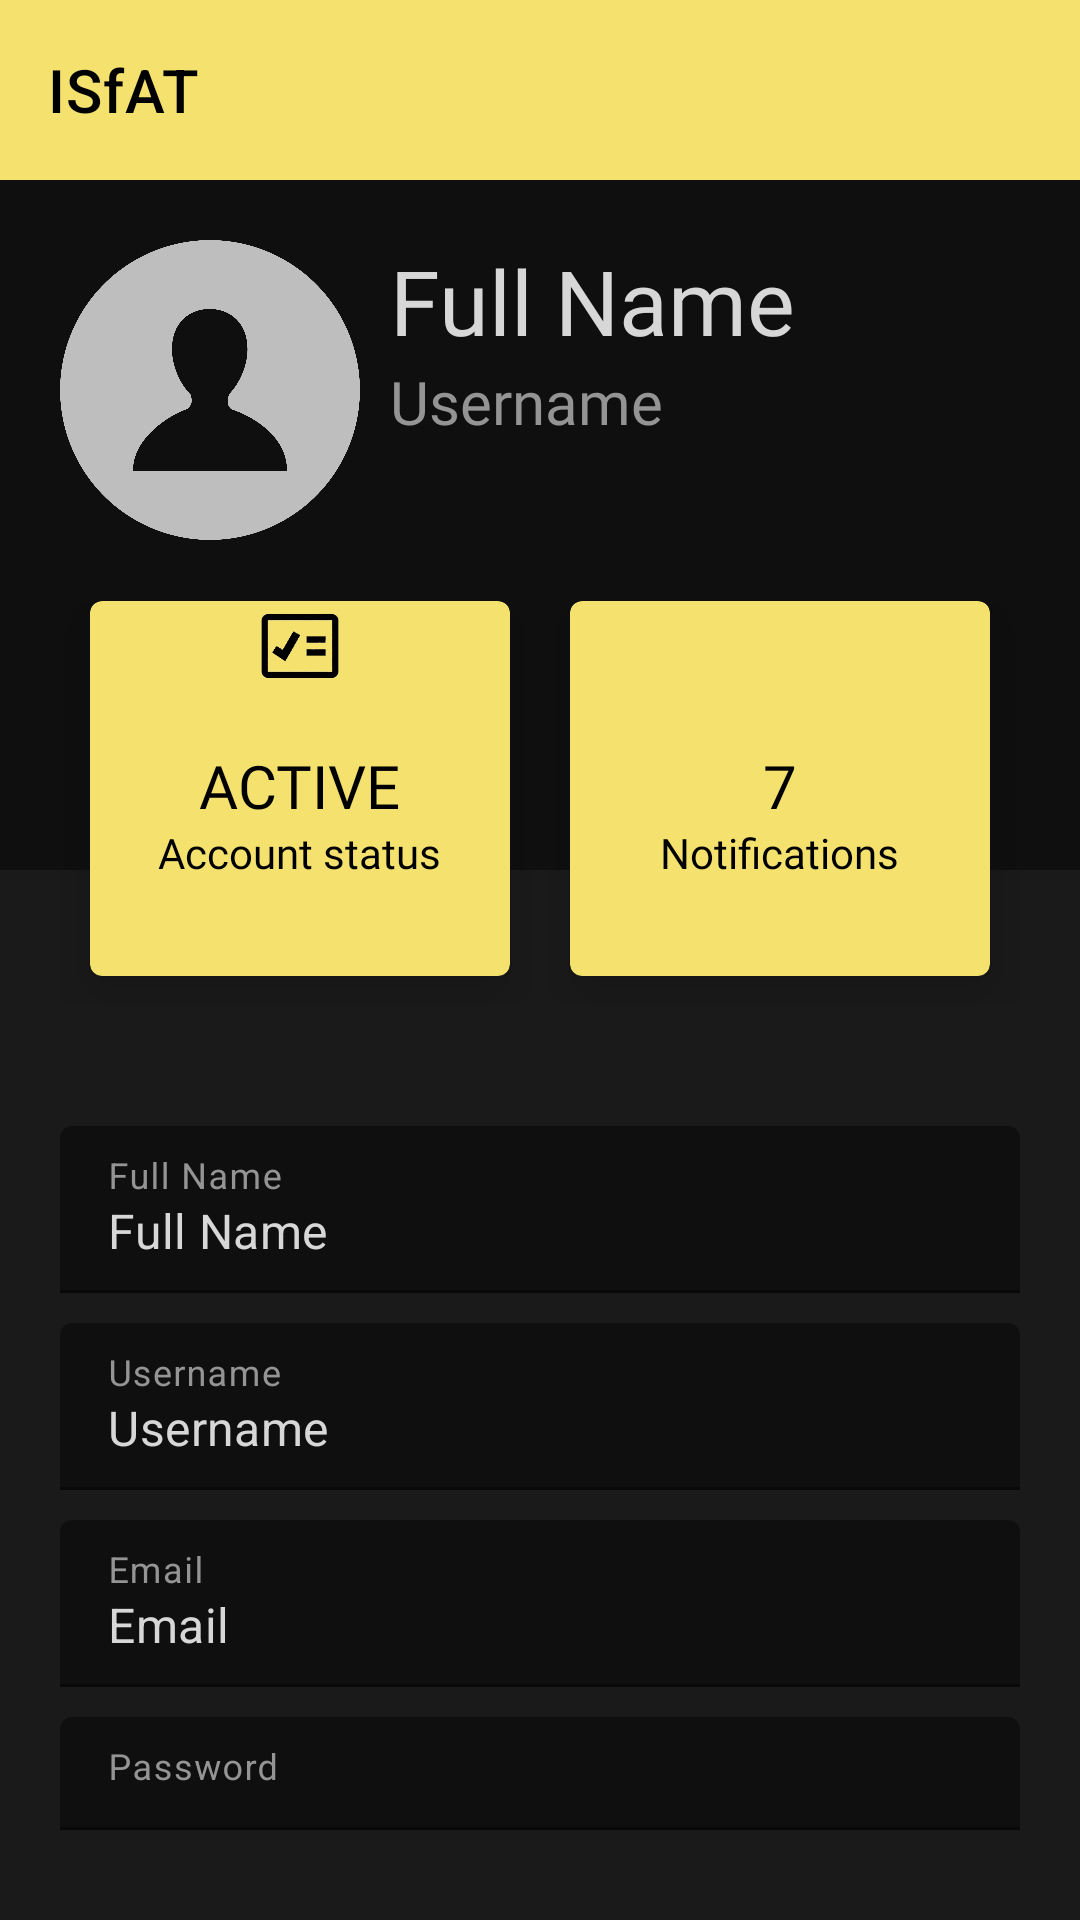

Screen size 1080px x 1920px. Icon name, then its box in pixels as box(x1, y1, x2, y2):
acc status: box(261, 614, 339, 678)
